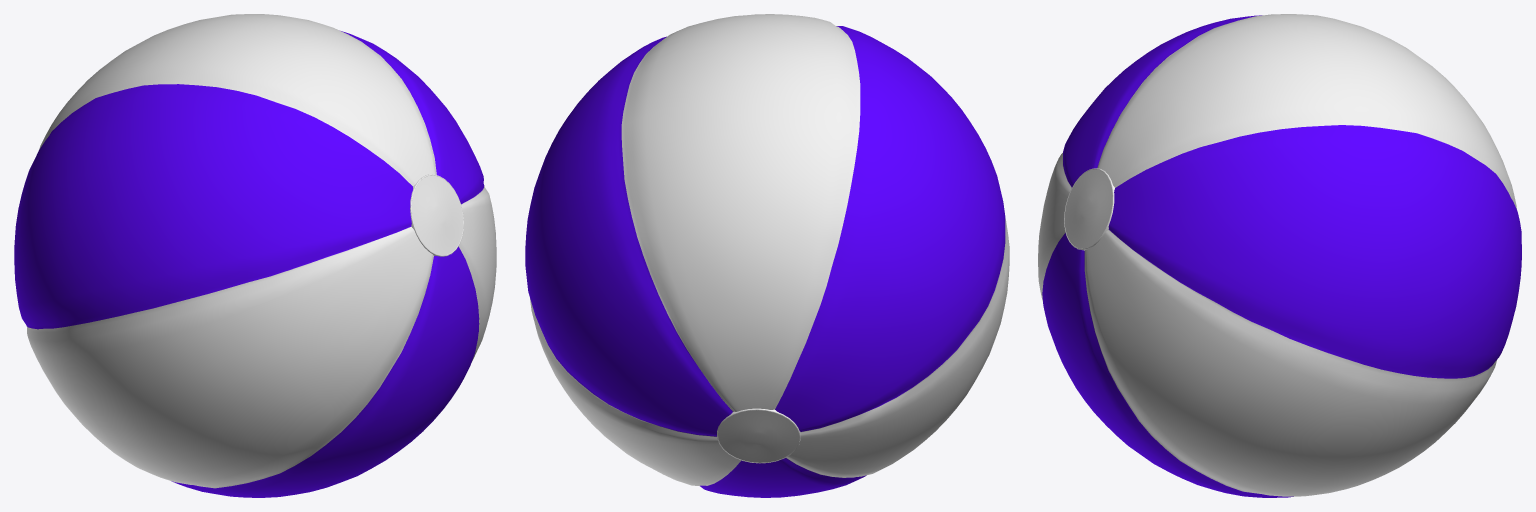
The model's file is poke_ball_06.glb.
3 views of the same model, side by side, from view 1: azimuth 30°, elevation 25°; view 2: azimuth 150°, elevation 25°; view 3: azimuth 270°, elevation 25° (orthographic).
Visible parts, largest first — view 1: White Stripes, Pink Stripes; view 2: White Stripes, Pink Stripes; view 3: White Stripes, Pink Stripes.
Boxes of the visible parts, x1,y1,x2,y2 form: White Stripes: [27, 14, 496, 488]; Pink Stripes: [14, 31, 484, 497]; White Stripes: [530, 14, 1009, 485]; Pink Stripes: [525, 26, 1005, 497]; White Stripes: [1038, 14, 1516, 496]; Pink Stripes: [1042, 15, 1521, 497].
Size of the model in its own units: 2.7 by 2.7 by 2.69.
